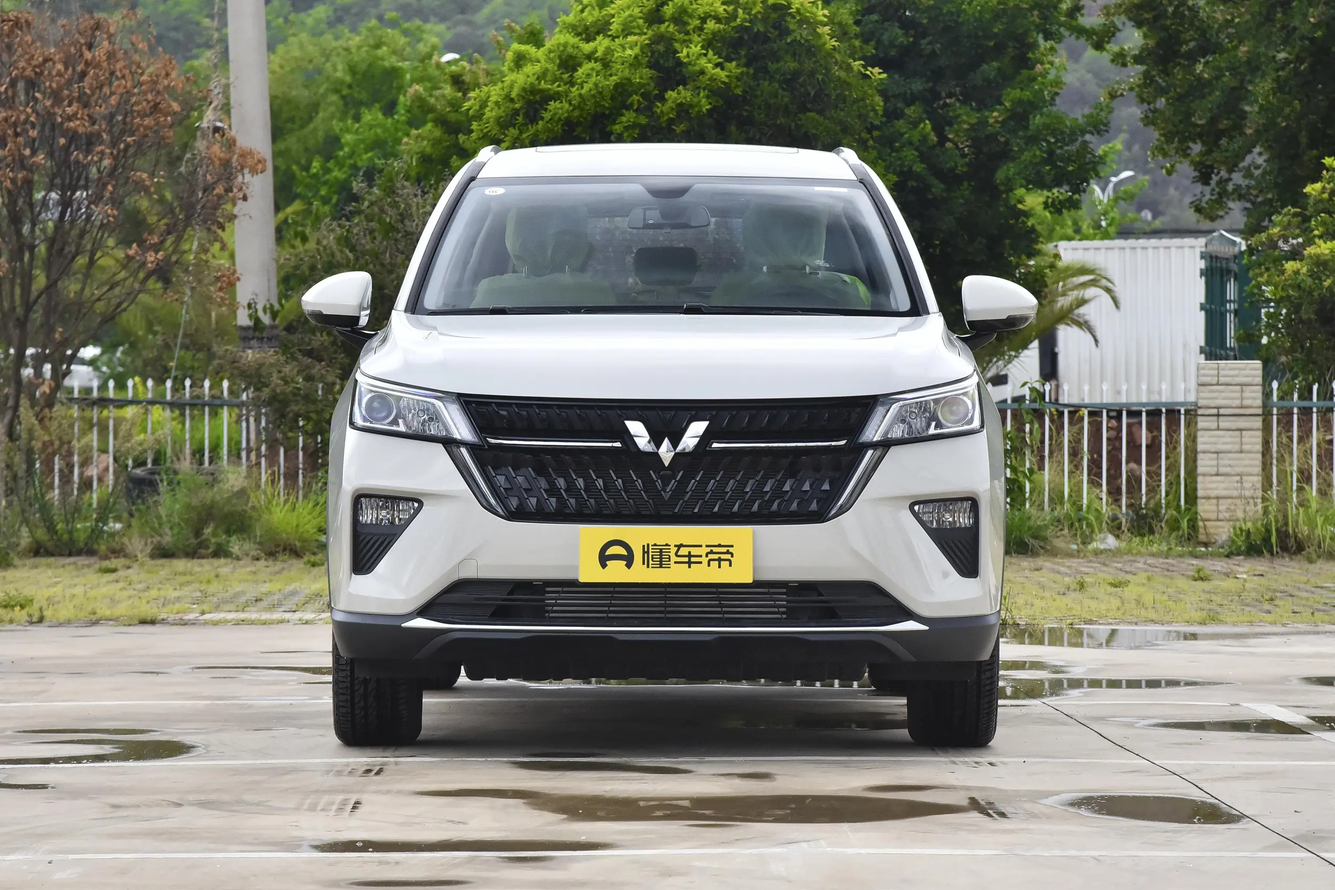SGMW: (624, 421, 708, 466)
